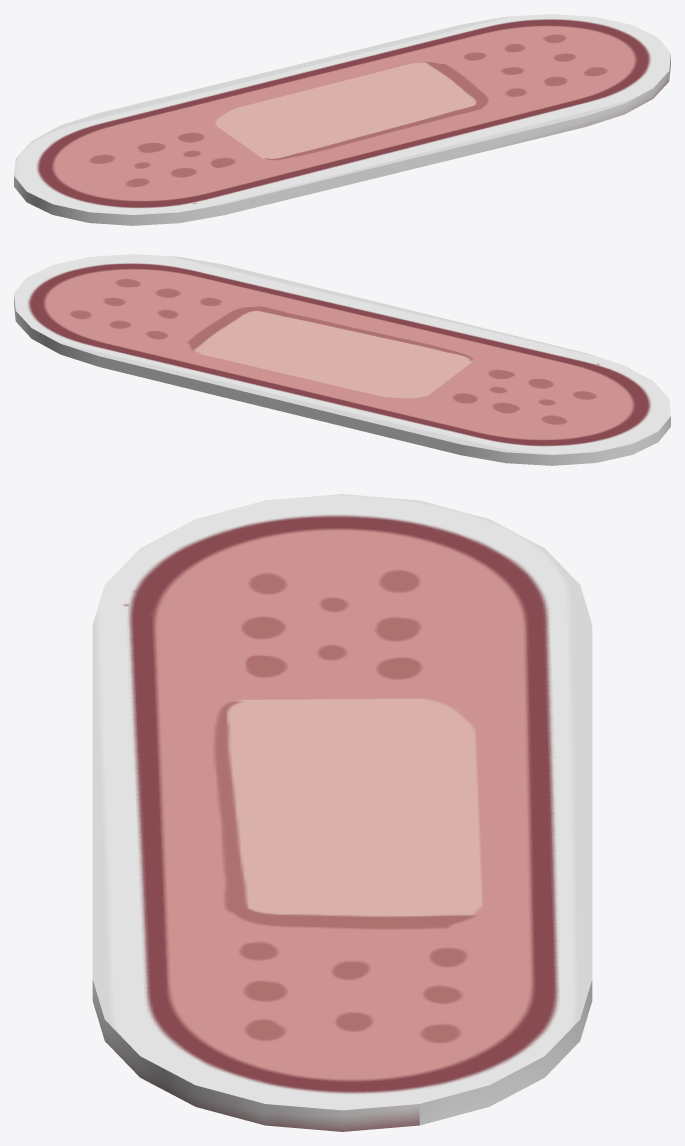
The model's file is Mesh_Sticker_1 (1).fbx.
3 renders of one model, top to bottom at view 1: azimuth 30°, elevation 25°; view 2: azimuth 150°, elevation 25°; view 3: azimuth 270°, elevation 25°, orthographic. The views are drawn at different scales.
Visible parts, largest first — view 1: pCylinder15; view 2: pCylinder15; view 3: pCylinder15.
Part boxes in pixels (x1,y1,x2,y2): pCylinder15: (14, 14, 670, 225); pCylinder15: (14, 254, 670, 465); pCylinder15: (92, 494, 592, 1131).
Bounding box in the file's own units: 25.22 × 0.4116 × 8.64.
